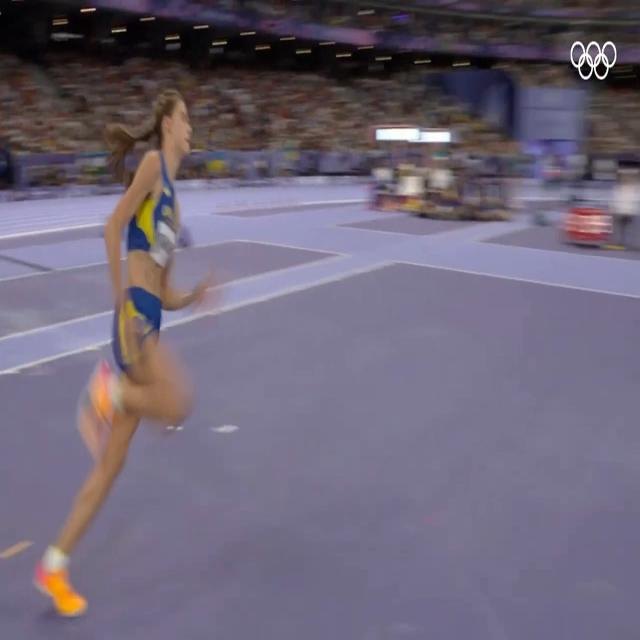run: (34, 84, 213, 625)
